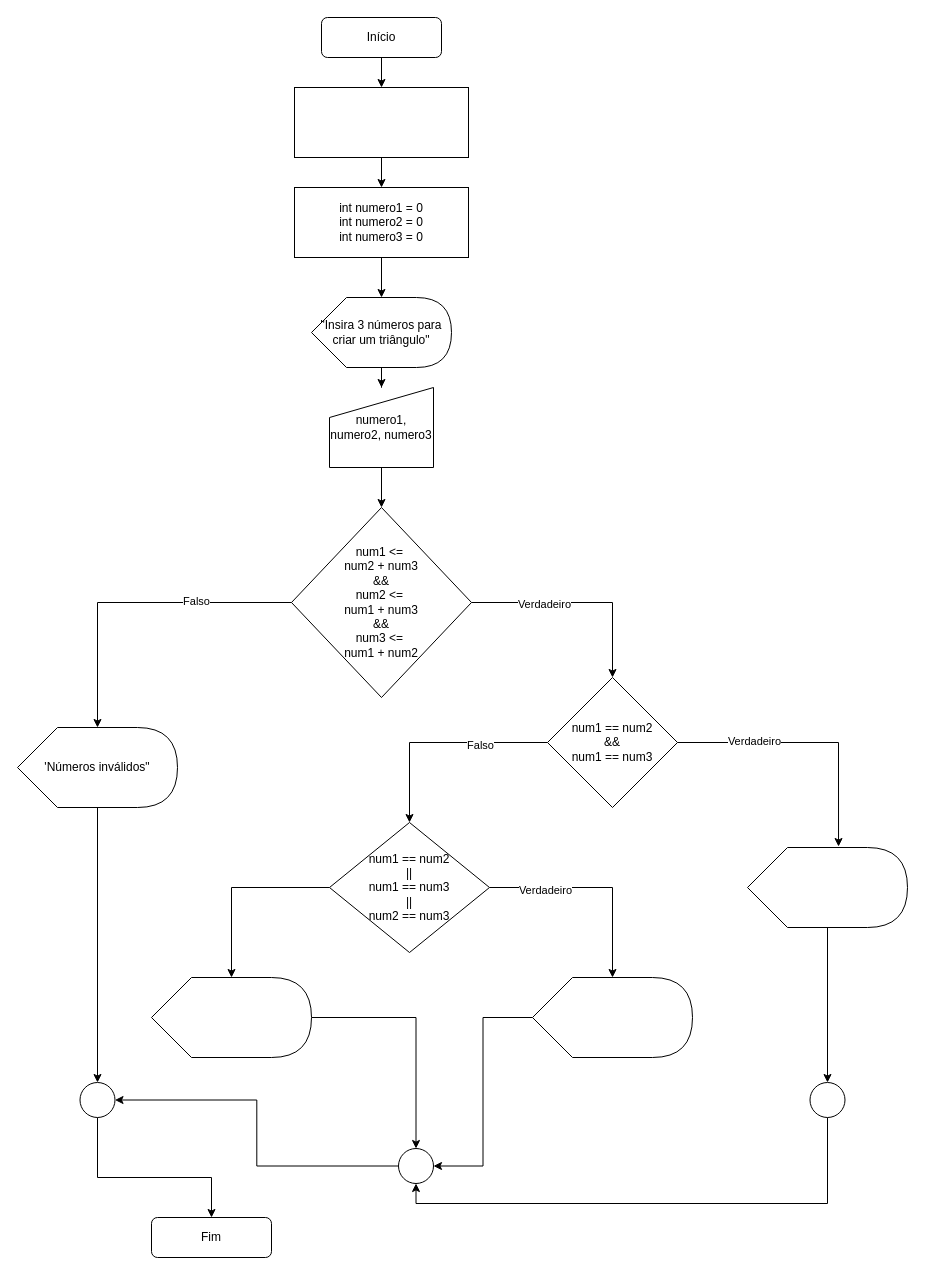
Image size: 925x1275. Some labels were removed from this diagram. Each missing label, with the centre of its shape:
'É um triângulo equilátero": pixel 827 887
'É um triângulo escaleno": pixel 231 1017
'É um triângulo isósceles": pixel 612 1017
int numero1 int numero2 int numero3: pixel 381 122
